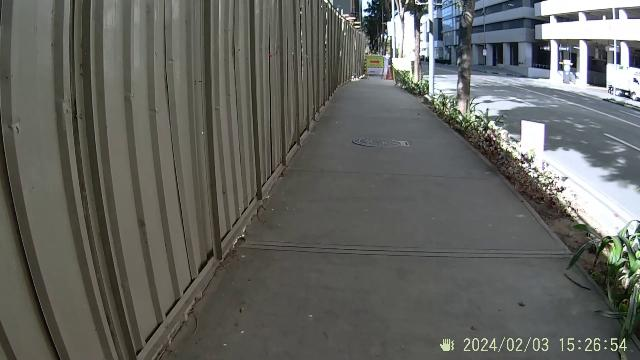construction_materials: (362, 48, 388, 78)
potted_plant: (592, 218, 640, 348)
